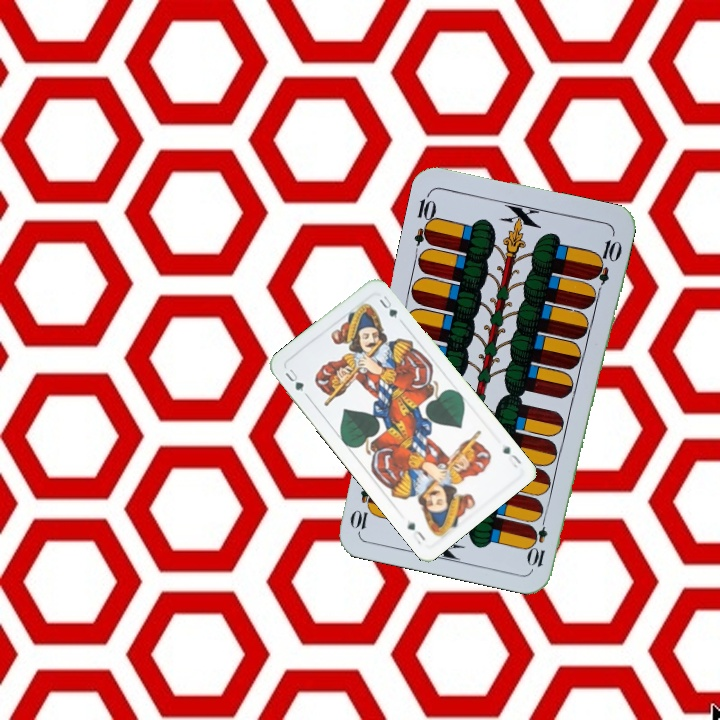E10: (410, 189, 439, 248), (526, 510, 551, 569)
GU: (498, 440, 524, 470), (281, 365, 306, 394)
